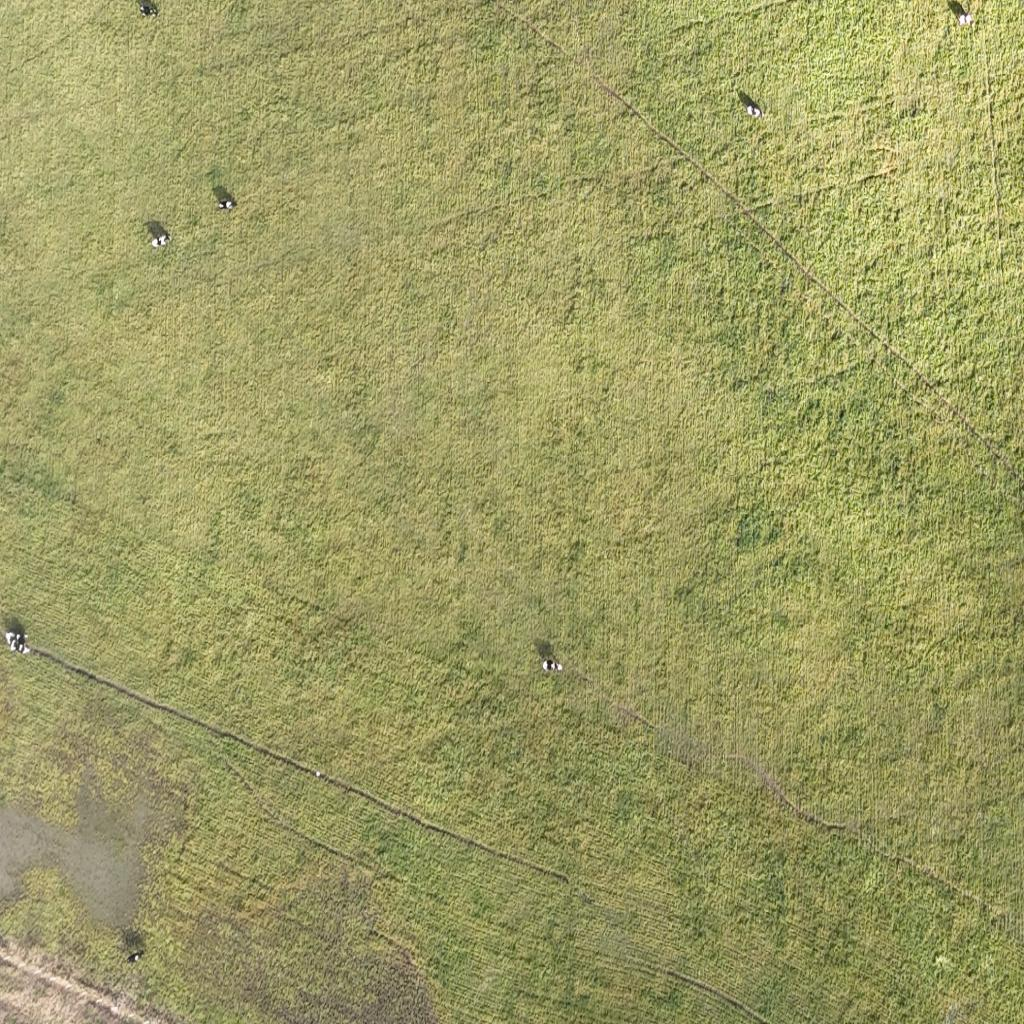cow: (4, 631, 28, 655), (138, 0, 158, 18), (543, 658, 564, 674), (216, 199, 239, 212), (152, 233, 171, 247), (746, 104, 762, 118), (960, 12, 974, 26), (128, 952, 142, 963)
